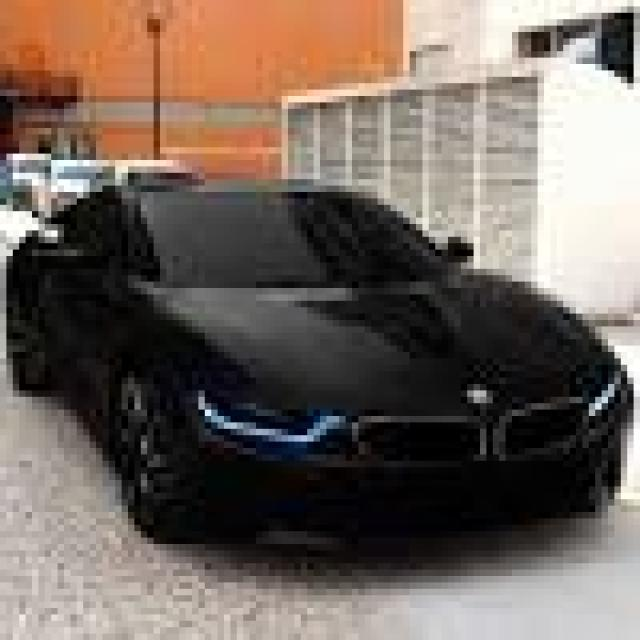car: (5, 172, 635, 571)
